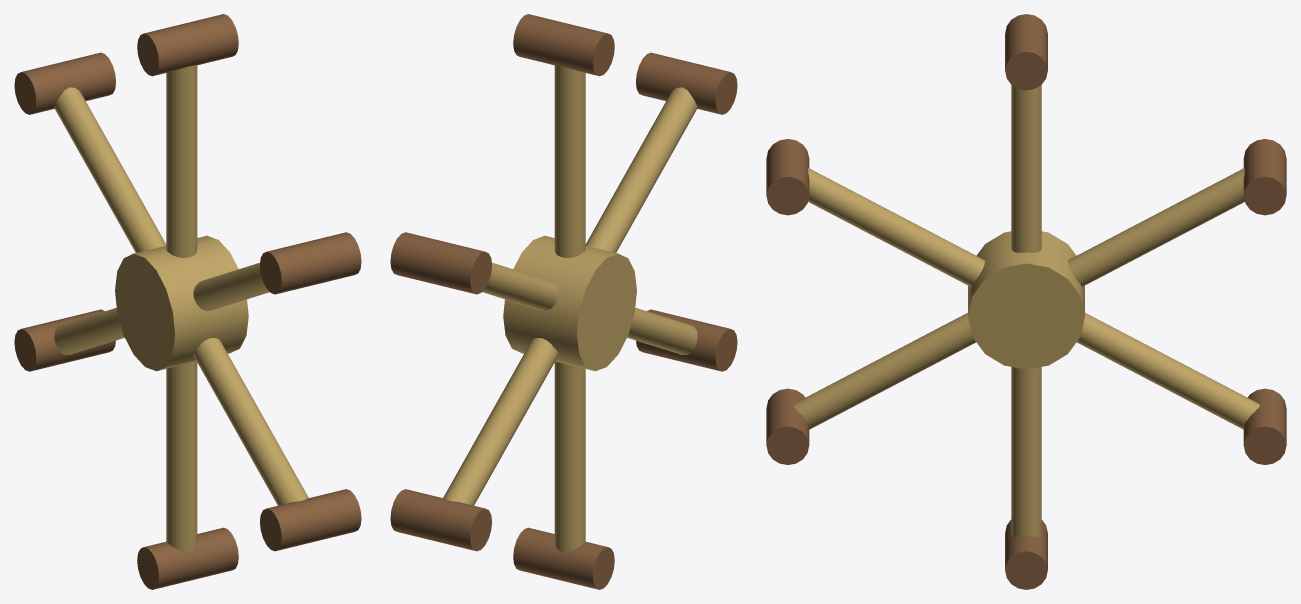
File: fantasy-cartographers-map-printing-guild-press-star-wh-755c3ad0__32243.glb
The picture shows the model from 3 angles, left to right: view 1: azimuth 30°, elevation 25°; view 2: azimuth 150°, elevation 25°; view 3: azimuth 270°, elevation 25°; orthographic projection. The views are drawn at different scales.
Visible parts, largest first — view 1: press-star-wheel; view 2: press-star-wheel; view 3: press-star-wheel.
Part boxes in pixels (x1,y1,x2,y2): press-star-wheel: (14, 14, 361, 589); press-star-wheel: (390, 14, 737, 589); press-star-wheel: (766, 14, 1286, 589).
Size of the model in its own units: 0.135 by 0.862 by 0.7549.
